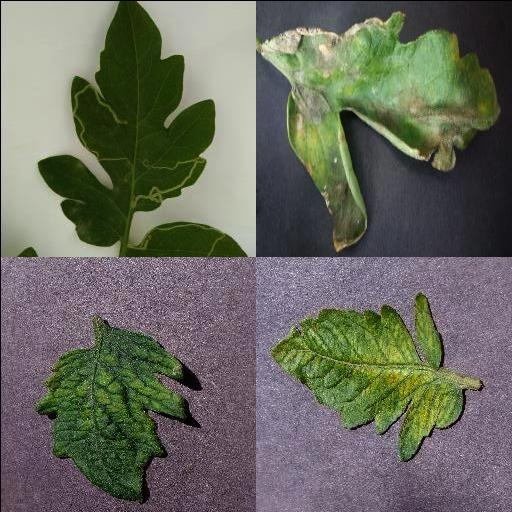Late Blight: (256, 8, 502, 254)
Leaf Miner: (35, 0, 214, 246)
Mosaic Virus: (270, 292, 466, 460), (36, 327, 187, 505)
